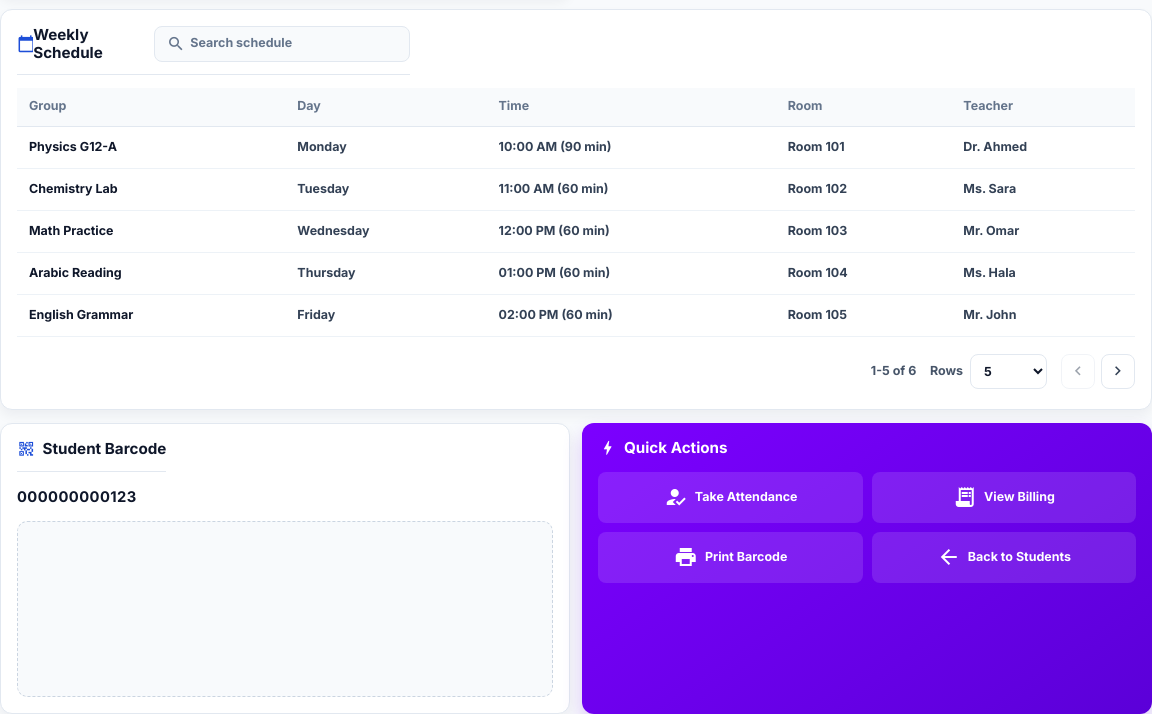
TenantStudentDetailsComponent › filters weekly schedule rows by search query and resets pagination
(page scrolled)
Step 1. Click the button named "Next schedule page" → click(1118, 372), box [1101,354,1135,389]
(page scrolled)
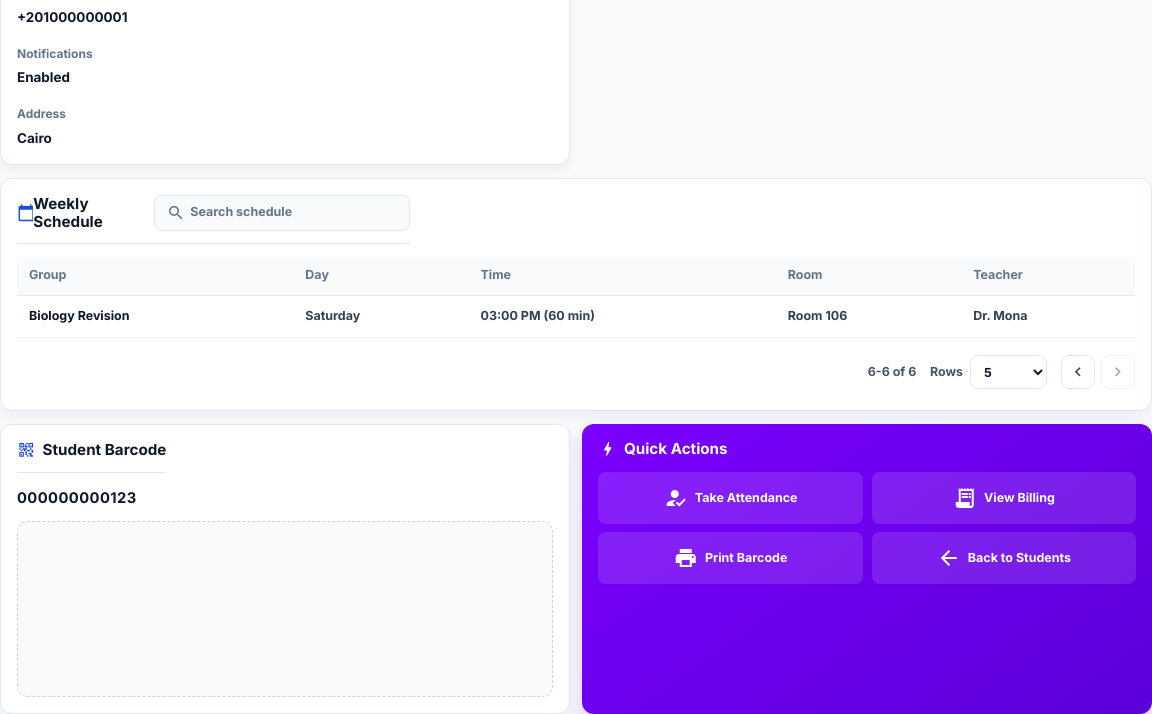
Step 2. Type "biology" into the search field with placeholder "Search schedule" → (293, 213), box [190,204,397,222]
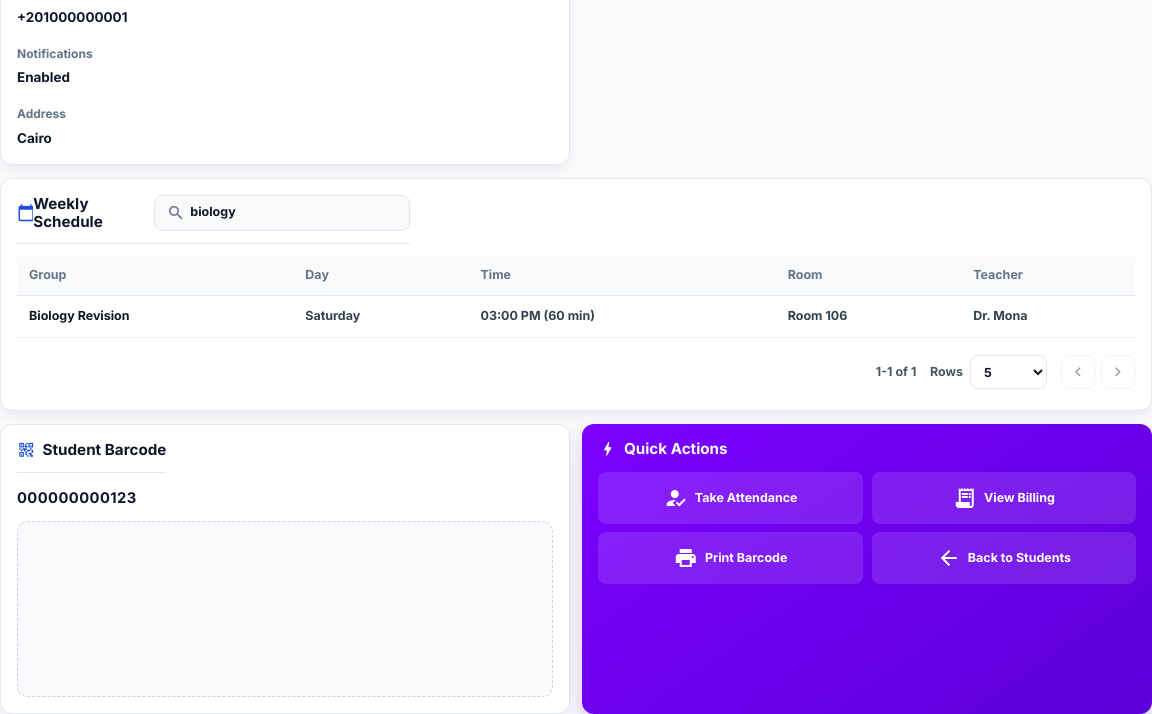
Check: the element with class "student-schedule-table" does not show "Physics G12-A"
Check: the table with class "student-schedule-table" shows "Biology Revision", box [29,308,130,323]
Check: the text "1-1 of 1" is shown, box [876,363,916,382]
